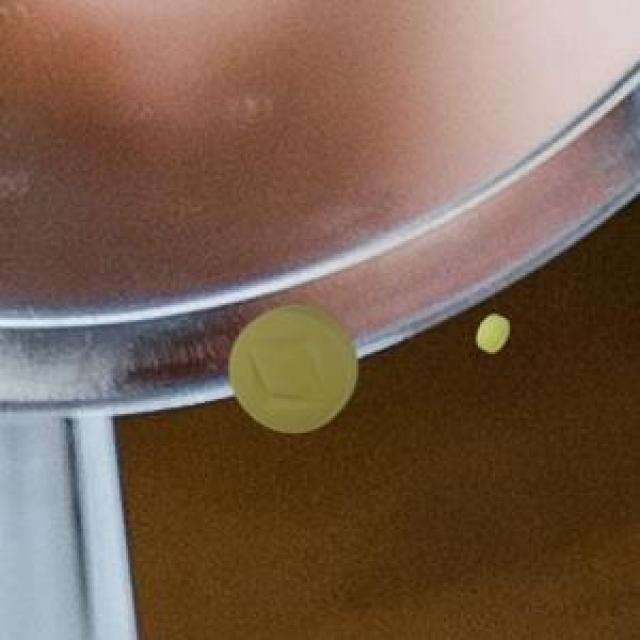Decolgen: (217, 294, 371, 442), (462, 304, 518, 364)
